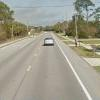Car: (38, 33, 61, 51)
